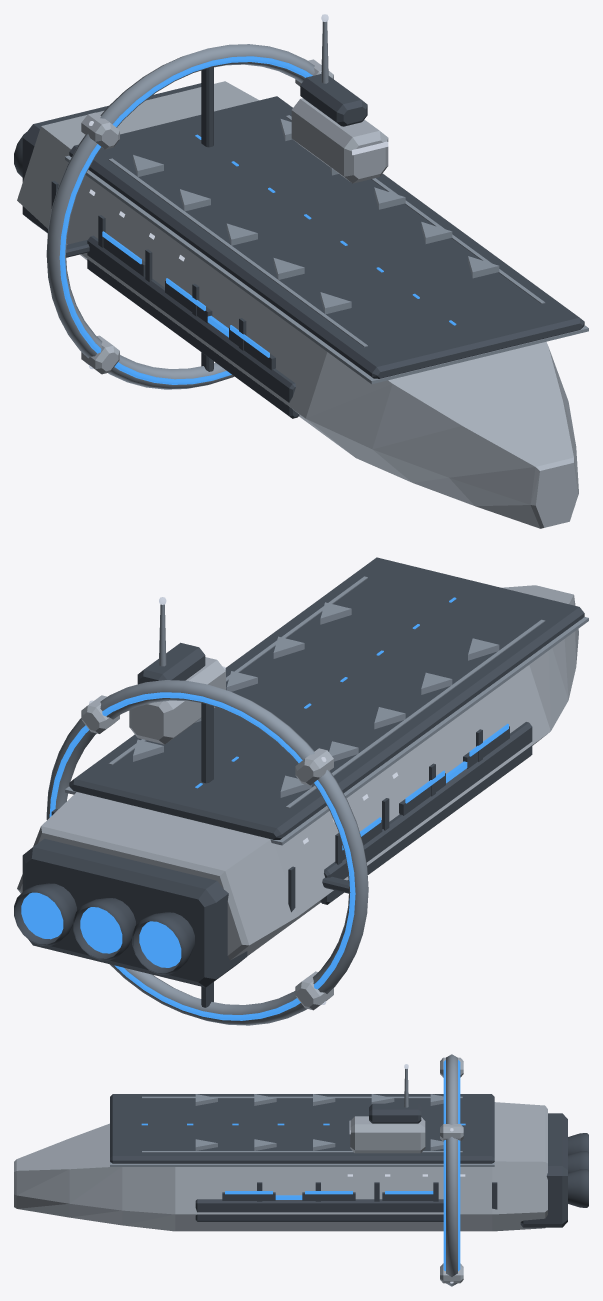
The model's file is carrier.glb.
3 renders of one model, top to bottom at view 1: azimuth 30°, elevation 25°; view 2: azimuth 150°, elevation 25°; view 3: azimuth 270°, elevation 25°, orthographic. The views are drawn at different scales.
Visible parts, largest first — view 1: hull2, hull, trim, team_glow; view 2: hull2, hull, trim, team_glow; view 3: hull, hull2, trim, team_glow.
Boxes of the visible parts, box(x1,y1,x2,y2) form: hull2: box(14, 67, 584, 418); hull: box(17, 59, 578, 528); trim: box(46, 21, 588, 389); team_glow: box(59, 56, 456, 384); hull2: box(14, 557, 584, 1007); hull: box(17, 585, 578, 1010); trim: box(46, 576, 588, 1025); team_glow: box(21, 597, 508, 1020); hull: box(14, 1057, 547, 1283); hull2: box(110, 1094, 588, 1227); trim: box(110, 1054, 494, 1286); team_glow: box(141, 1060, 465, 1271).
Size of the model in its own units: 4.36 by 4.89 by 10.77.
